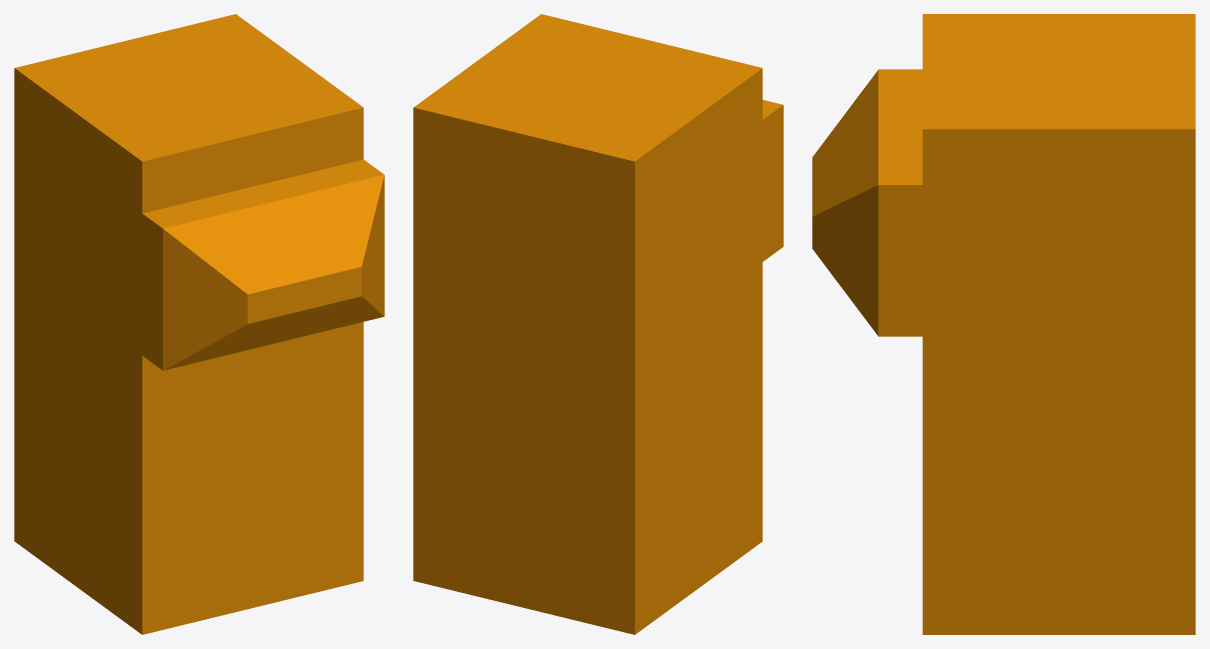
The model's file is ngaco.gltf.
The picture shows the model from 3 angles, left to right: view 1: azimuth 30°, elevation 25°; view 2: azimuth 150°, elevation 25°; view 3: azimuth 270°, elevation 25°; orthographic projection. The views are drawn at different scales.
Visible parts, largest first — view 1: Cube; view 2: Cube; view 3: Cube.
Boxes of the visible parts, x1,y1,x2,y2 form: Cube: [14, 14, 384, 634]; Cube: [413, 14, 783, 634]; Cube: [812, 14, 1195, 634].
Bounding box in the file's own units: 2 × 4.08 × 2.81.
